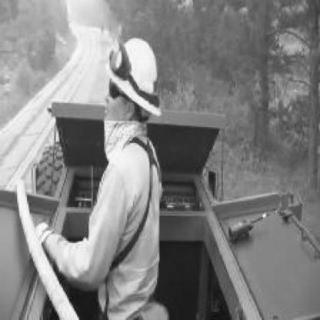other: (28, 38, 180, 314)
